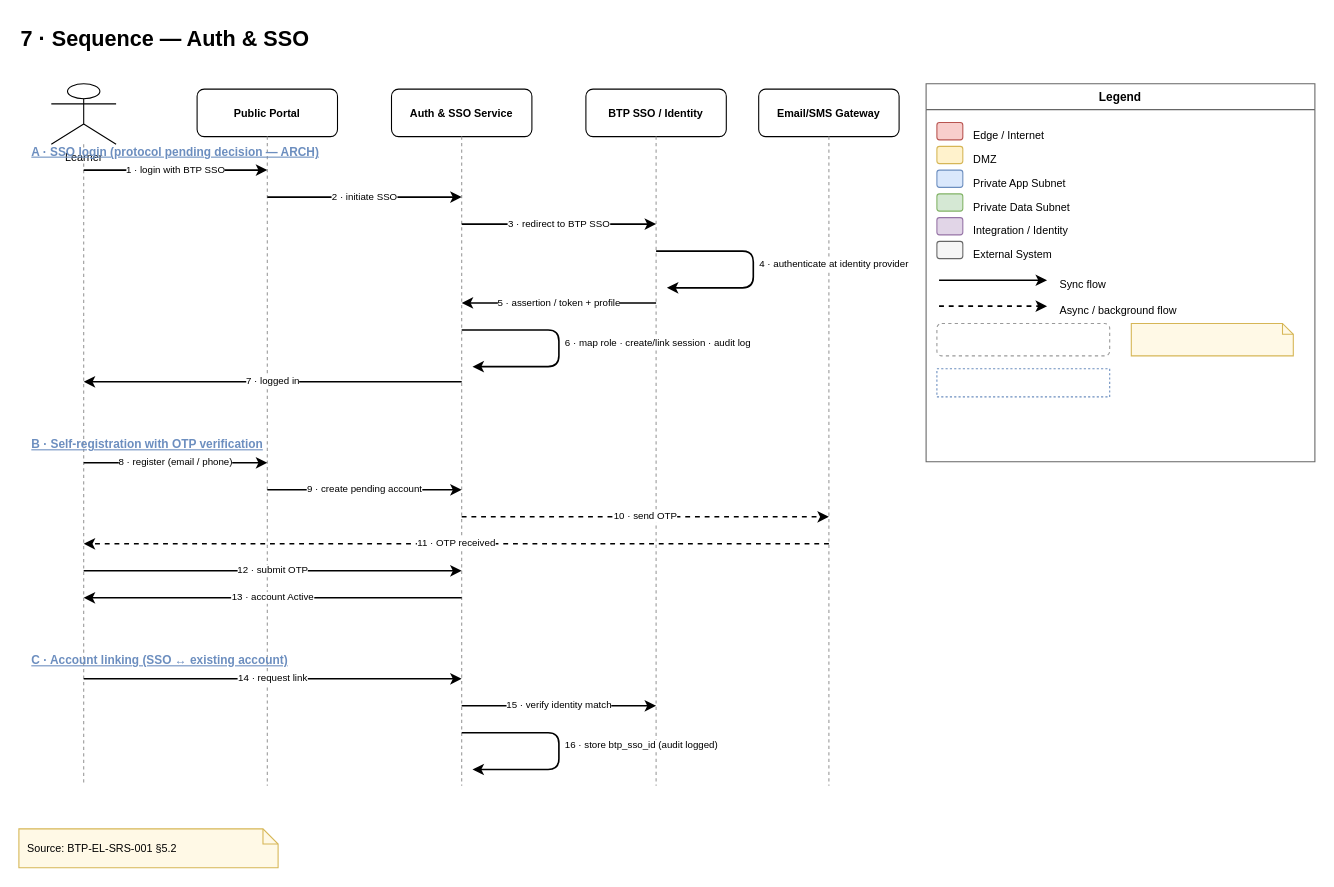
Some shapes in this 1334 by 887 pixel diagram are drawn without their labels. Each missing label, with the box of its shape:
Entity stub → see page N: (936, 368, 1110, 397)
Pending decision (ARCH-xx): (936, 322, 1110, 356)
Security control note: (1130, 322, 1293, 356)
